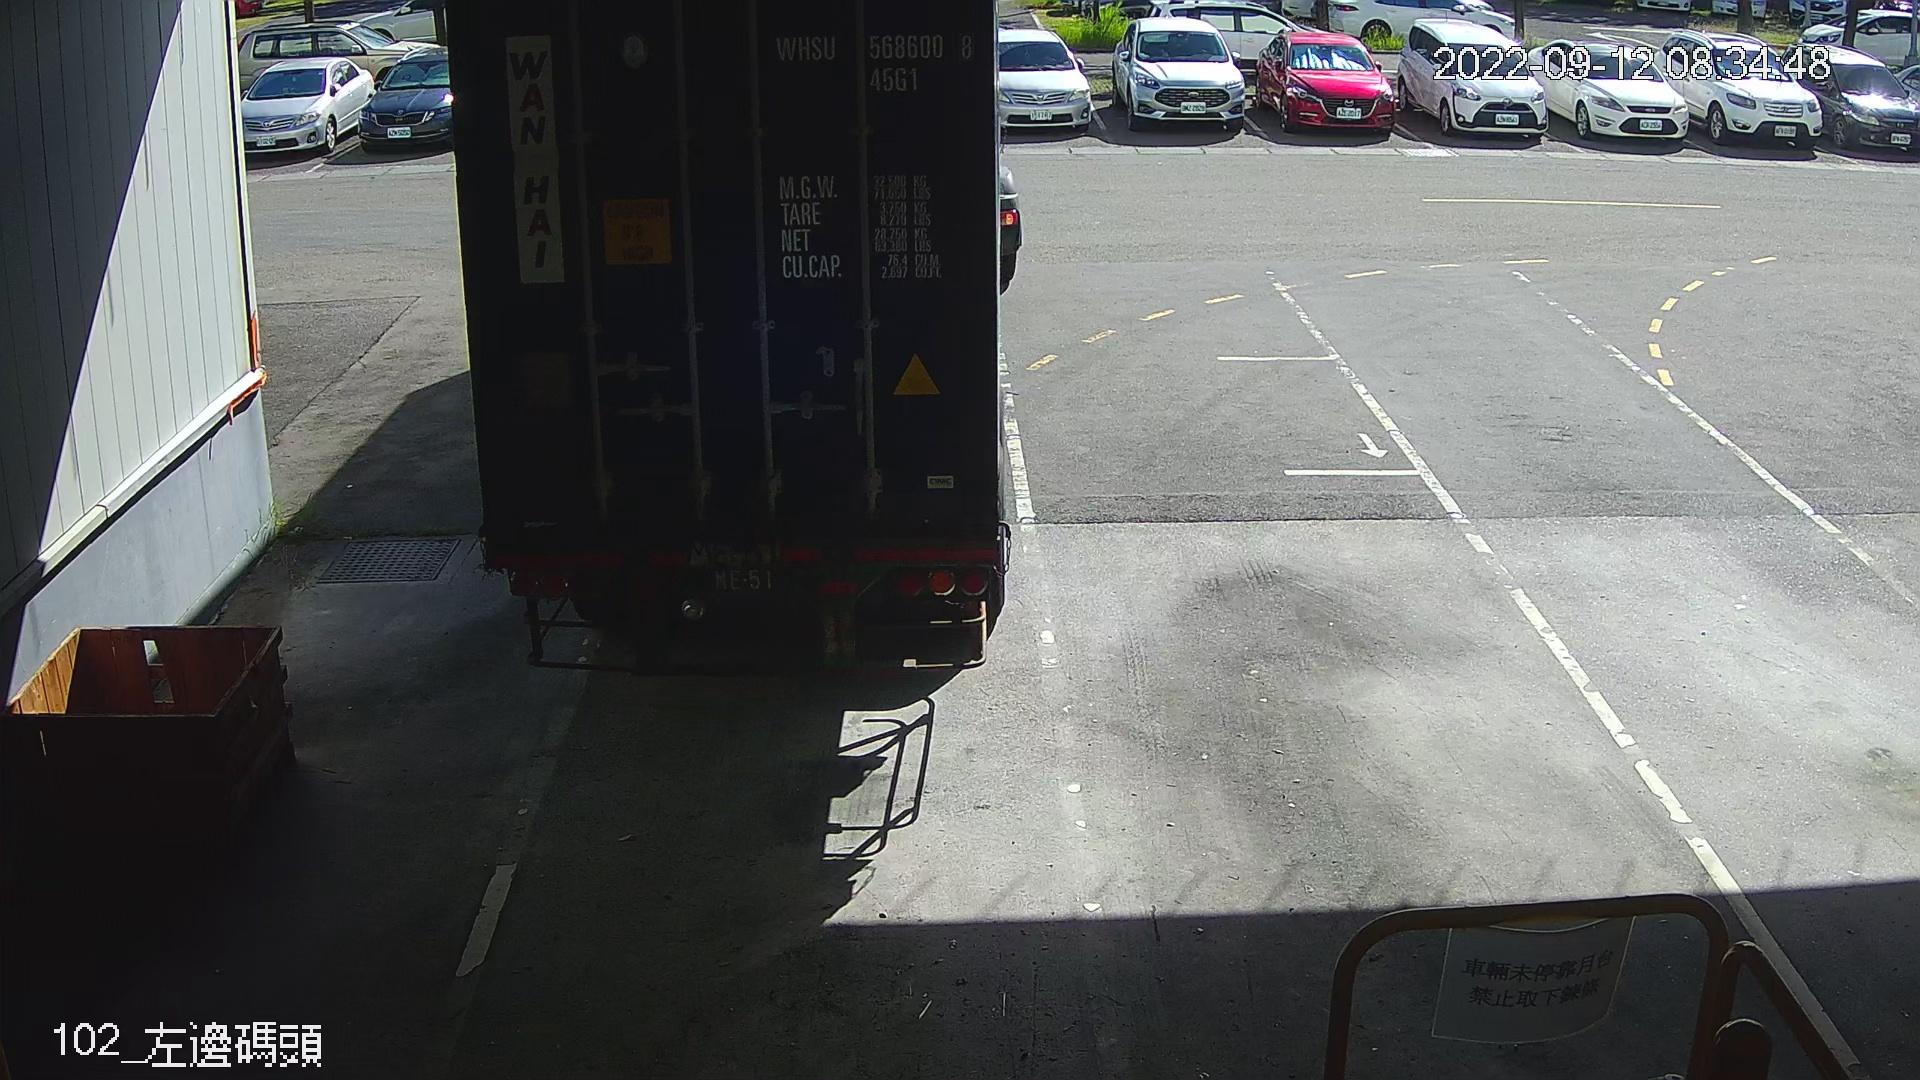container: (764, 22, 984, 102)
